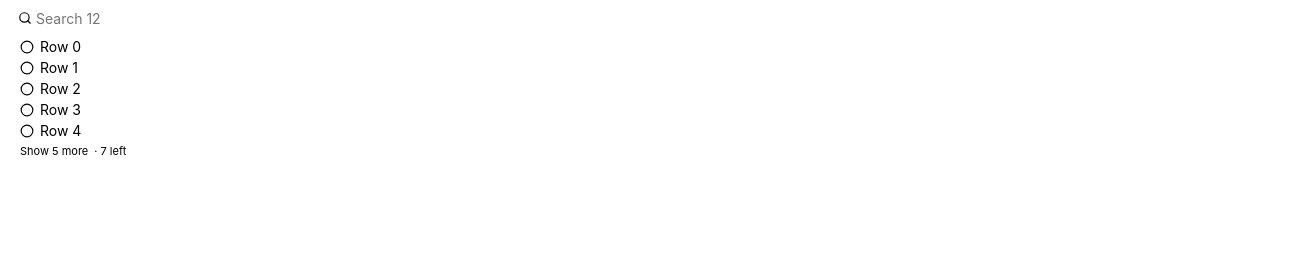
Test: the count is bounded › grows by a page each time, and says how many are left
Step 1. Click the button "Show 5 more · 7 left" → (54, 151), box [12, 141, 1292, 162]
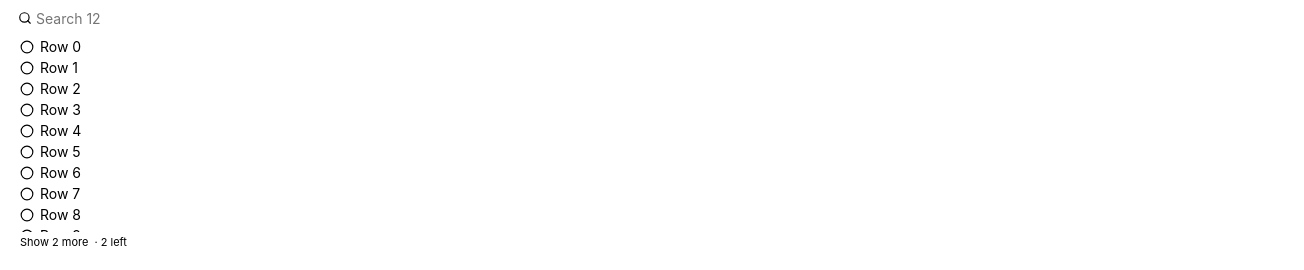
Result: the number of list items is 10
// Two left, so the offer says two rather than a page.
Step 2. Click the button "Show 2 more · 2 left" → (54, 242), box [12, 232, 1292, 253]
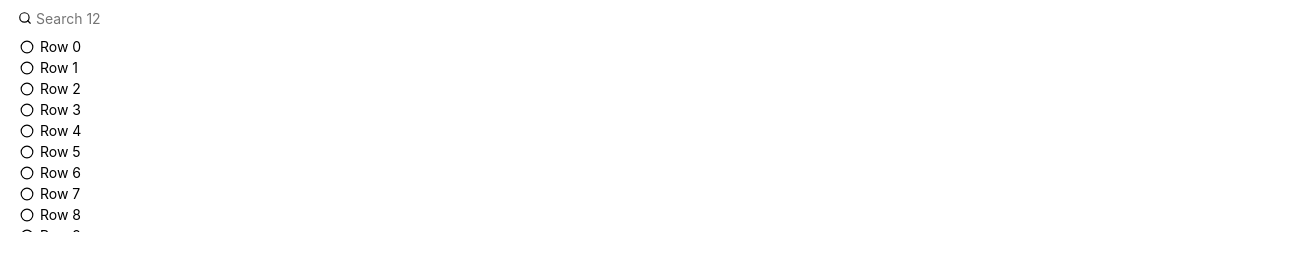
Result: the button "Show" is gone
